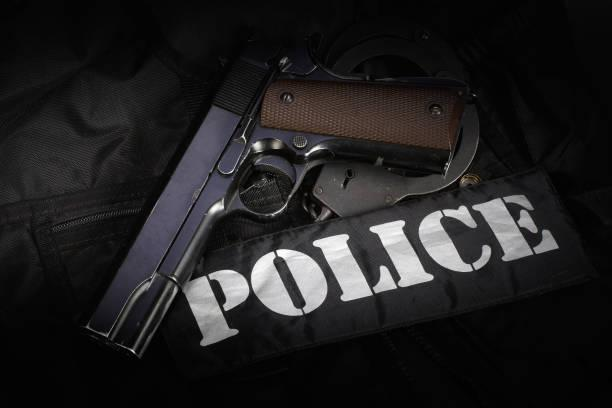weapon: (86, 20, 471, 365)
